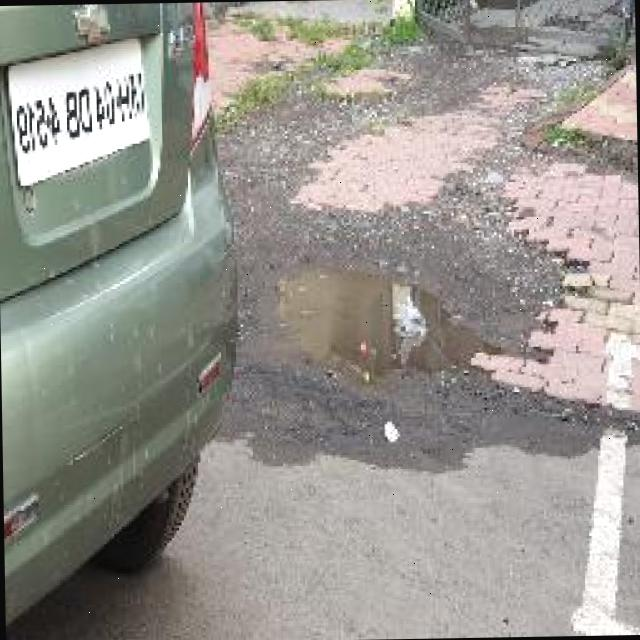stagnation: (264, 254, 472, 396)
